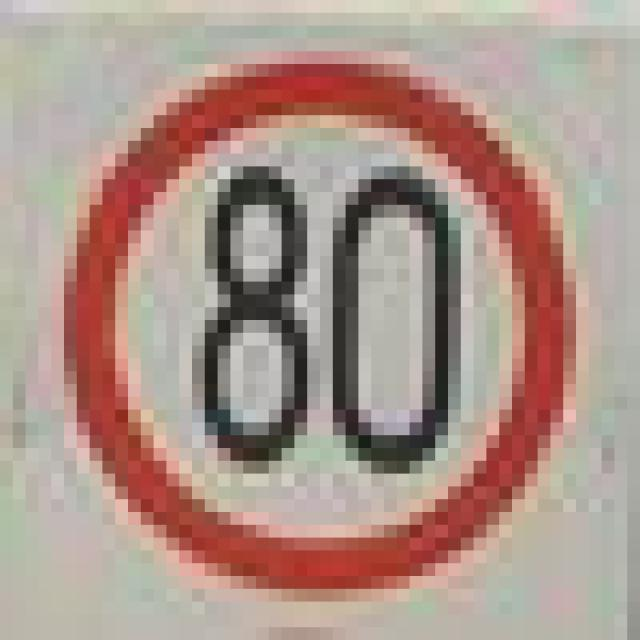speed_limit_50: (51, 51, 563, 589)
